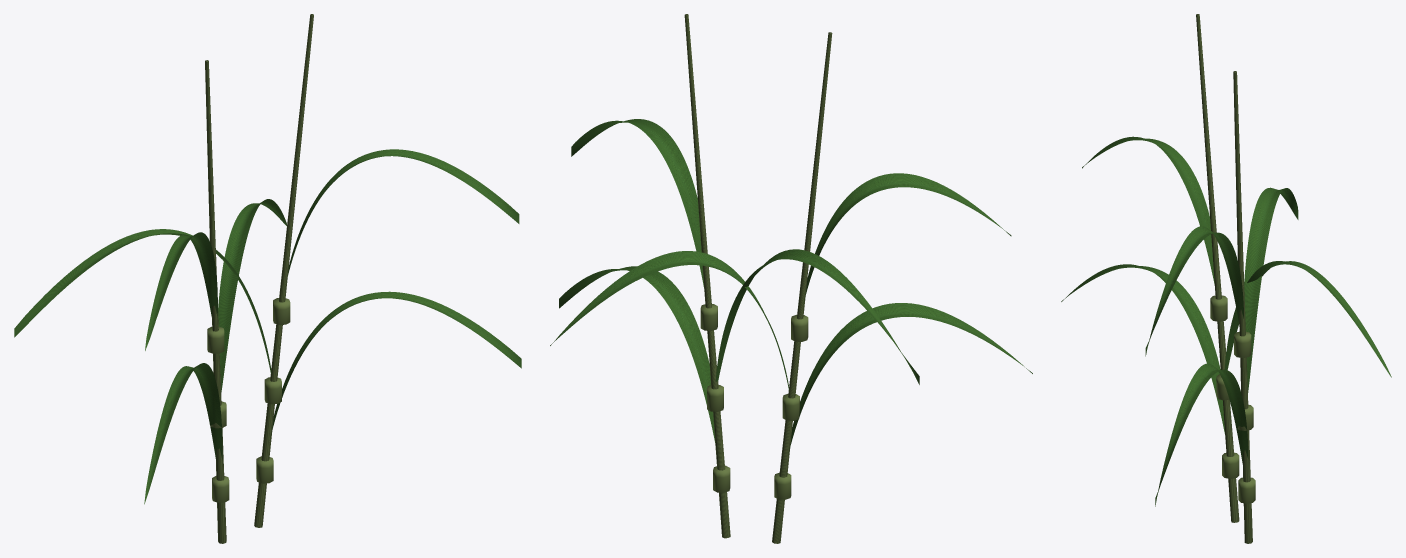
Rendered from rice-1-lite.glb.
3 renders of one model, left to right at view 1: azimuth 30°, elevation 25°; view 2: azimuth 150°, elevation 25°; view 3: azimuth 270°, elevation 25°, orthographic. The views are drawn at different scales.
Parts seen in each view (by area): view 1: grass-leaf, stem, nodes; view 2: grass-leaf, stem, nodes; view 3: grass-leaf, stem, nodes.
Part boxes in pixels (bbox=[...]): grass-leaf: bbox=[14, 149, 521, 504]; stem: bbox=[205, 14, 313, 543]; nodes: bbox=[207, 298, 290, 502]; grass-leaf: bbox=[550, 119, 1032, 455]; stem: bbox=[684, 14, 832, 543]; nodes: bbox=[700, 304, 808, 499]; grass-leaf: bbox=[1061, 136, 1391, 506]; stem: bbox=[1196, 14, 1252, 543]; nodes: bbox=[1210, 295, 1255, 503].
Bounding box in the file's own units: 0.1798 × 0.2002 × 0.1216.
3 materials, 2 textured.
